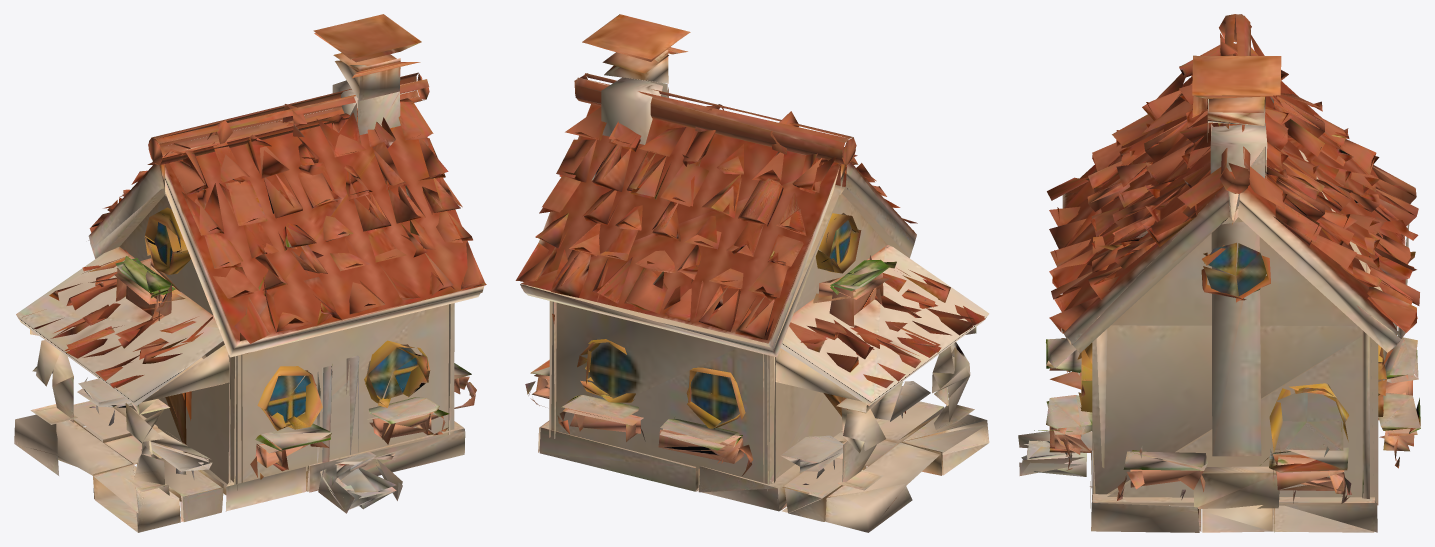
The model's file is house-cottage.lod1.glb.
The picture shows the model from 3 angles, left to right: view 1: azimuth 30°, elevation 25°; view 2: azimuth 150°, elevation 25°; view 3: azimuth 270°, elevation 25°; orthographic projection. The views are drawn at different scales.
Visible parts, largest first — view 1: house-cottage_lod1; view 2: house-cottage_lod1; view 3: house-cottage_lod1.
Part boxes in pixels (x1,y1,x2,y2): house-cottage_lod1: [14, 14, 486, 532]; house-cottage_lod1: [515, 14, 989, 532]; house-cottage_lod1: [1018, 14, 1420, 532].
Bounding box in the file's own units: 5 × 5.02 × 4.18.
1 material, 1 textured.
